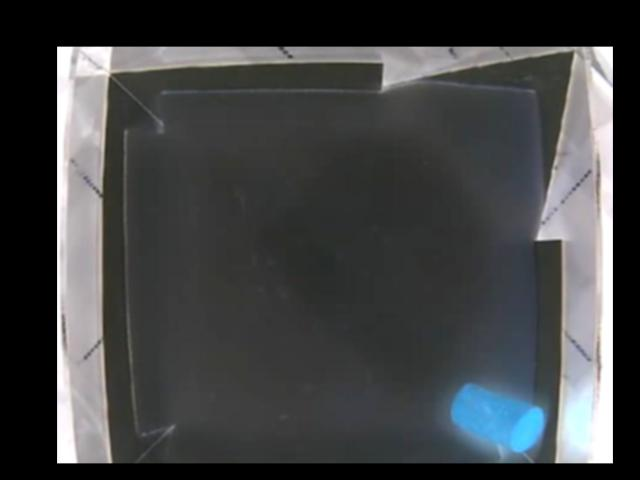Carrot: (452, 381, 545, 452)
